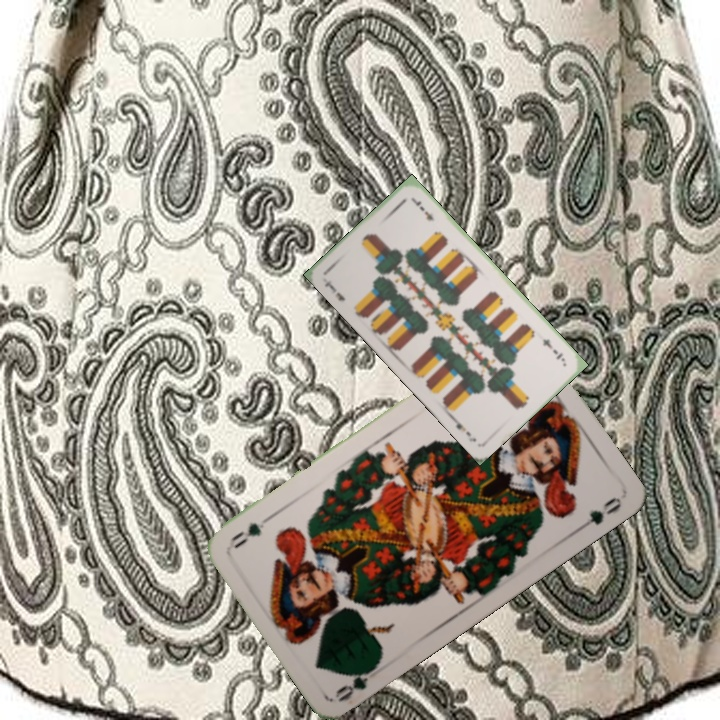E7: (538, 335, 567, 364), (321, 276, 348, 303)
GO: (331, 658, 382, 704)
